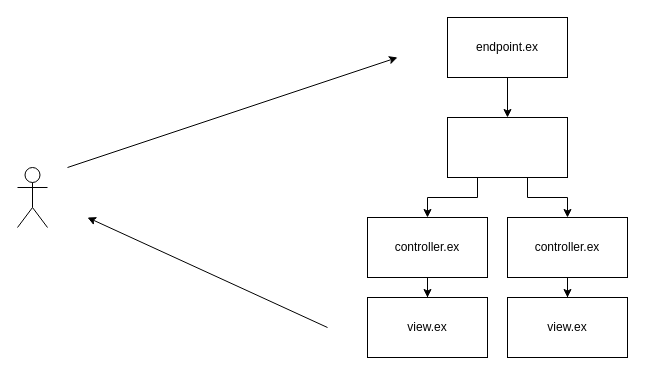
Image size: 645x375. Some labels were removed from this diagram. The shapes that lost their labels are listed below. From the top down, each one's centre as x and y in pixels, then its label:
At (x=507, y=147): "router.ex".
At (x=32, y=197): "Actor".
